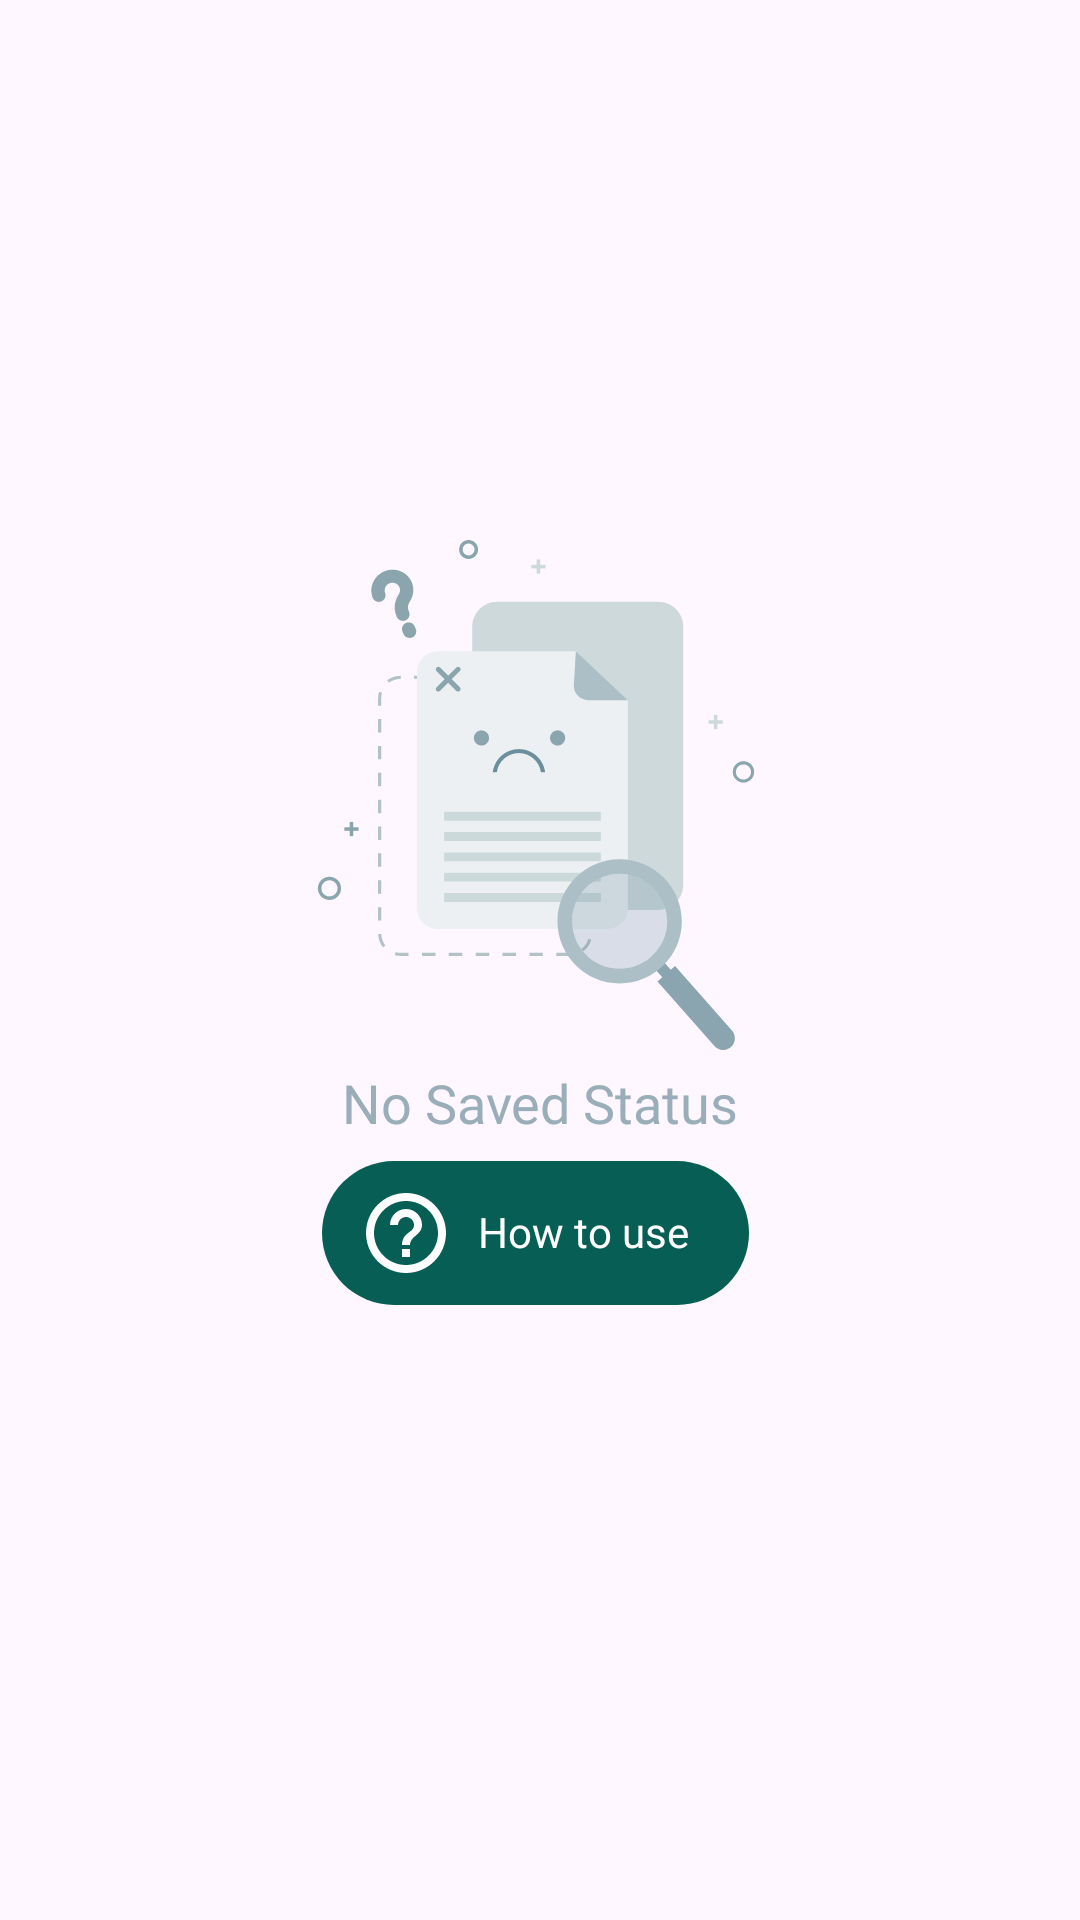

Icon click points for this 1080 × 1920 phone screenshot, format point (x, y):
help iocn: point (406, 1233)
